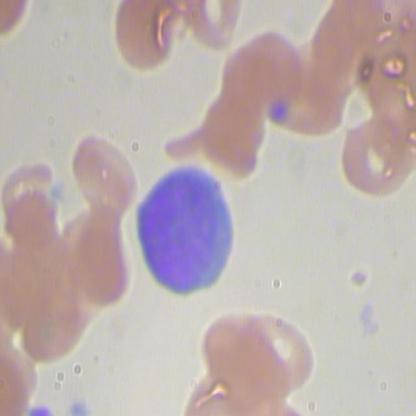RBC: (237, 308, 322, 395), (70, 127, 141, 215), (340, 111, 411, 198)
WBC: (131, 159, 245, 299)
